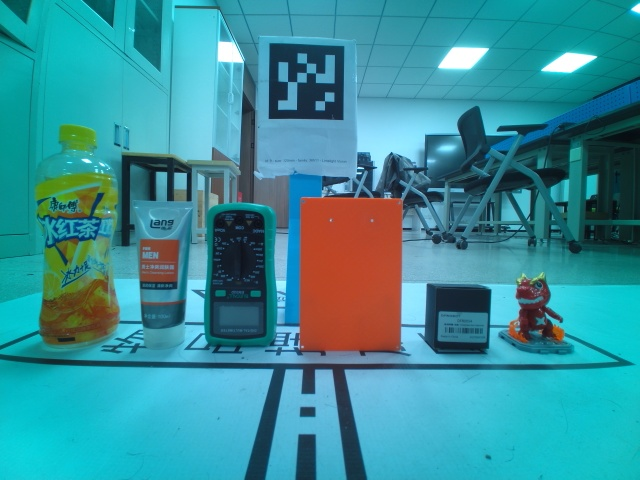banzi: (423, 281, 491, 356)
binghongcha: (499, 272, 575, 355)
dabao: (129, 197, 194, 351)
dianbiao: (39, 124, 122, 351)
hezi: (203, 201, 278, 348)
long: (299, 197, 403, 353)
